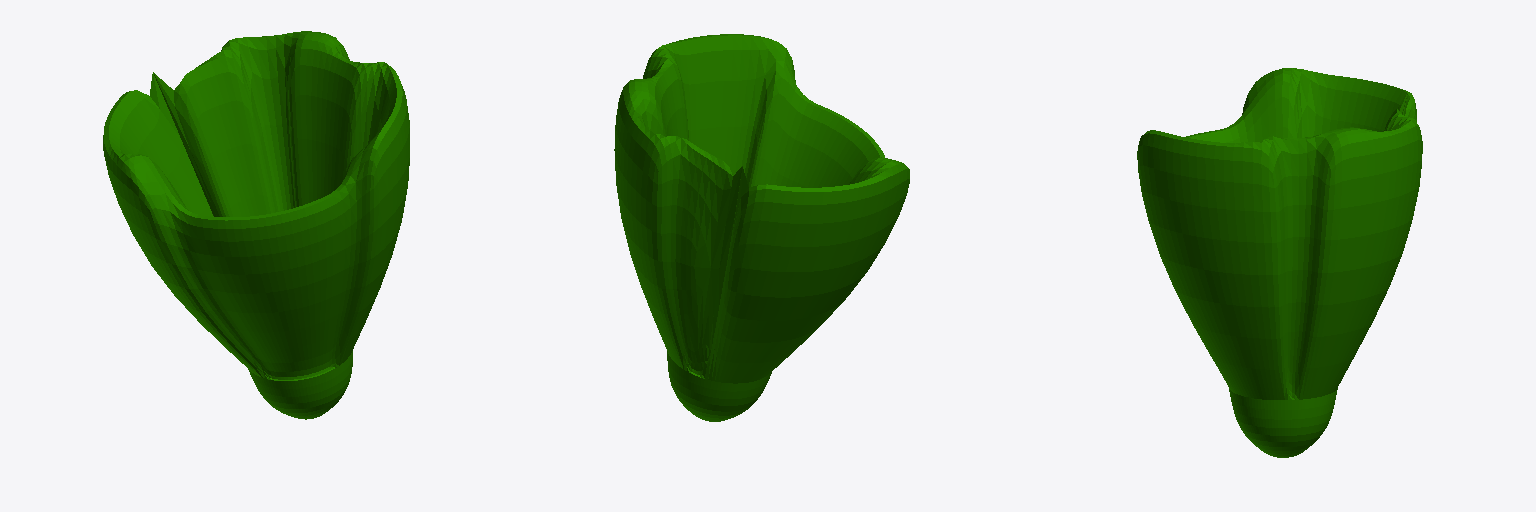
The model's file is corn_leaf.obj.
3 renders of one model, left to right at view 1: azimuth 30°, elevation 25°; view 2: azimuth 150°, elevation 25°; view 3: azimuth 270°, elevation 25°, orthographic.
Visible parts, largest first — view 1: Cylinder.122_Cylinder.388; view 2: Cylinder.122_Cylinder.388; view 3: Cylinder.122_Cylinder.388.
Part boxes in pixels (left/top/right/bottom): Cylinder.122_Cylinder.388: left=103, top=31, right=409, bottom=419; Cylinder.122_Cylinder.388: left=614, top=34, right=909, bottom=421; Cylinder.122_Cylinder.388: left=1137, top=68, right=1422, bottom=457.
Size of the model in its own units: 3.25 by 4.05 by 3.02.